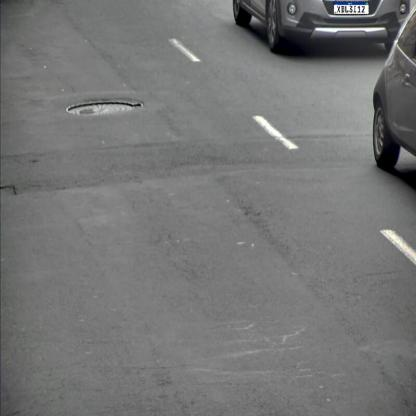PlacaM: (334, 2, 370, 14)
